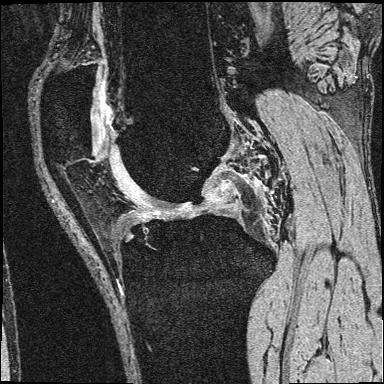SagKneeJointArea: (39, 62, 278, 306)
